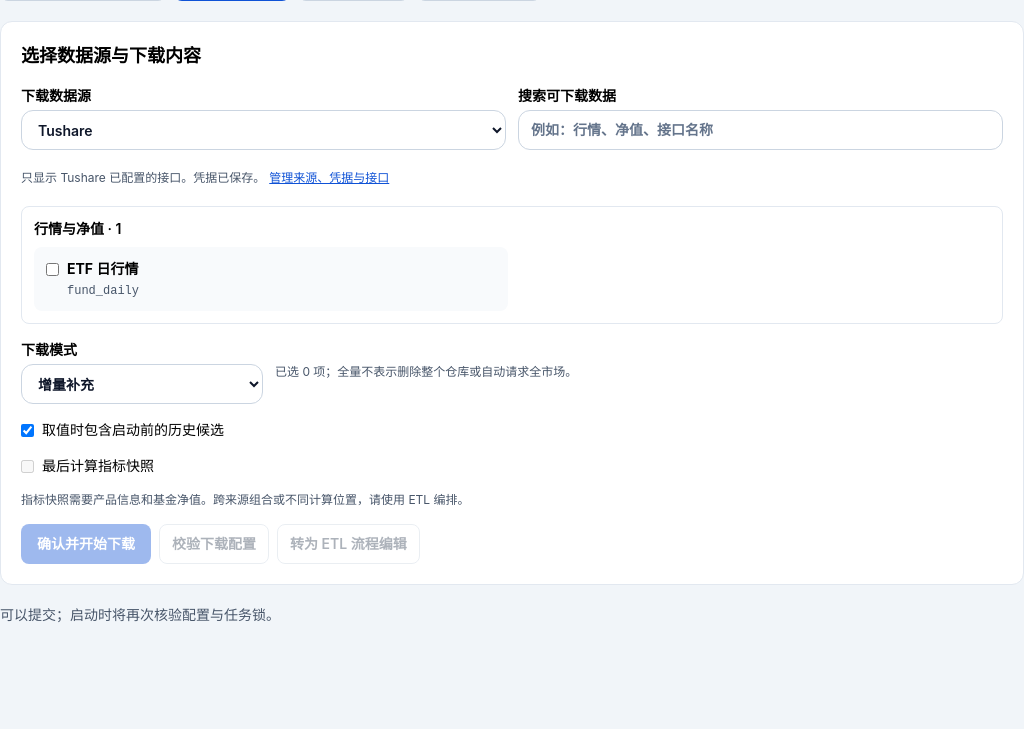
多源下载与 ETL › 校验失败不启动，后台状态失联也不能重复提交
This screenshot has width=1024, height=729.
Expected: the heading "选择数据源与下载内容" is shown, [21, 45, 201, 66]
Click the checkbox labelled "ETF 日行情". click: (52, 270)
box: [46, 263, 59, 276]
(page scrolled)
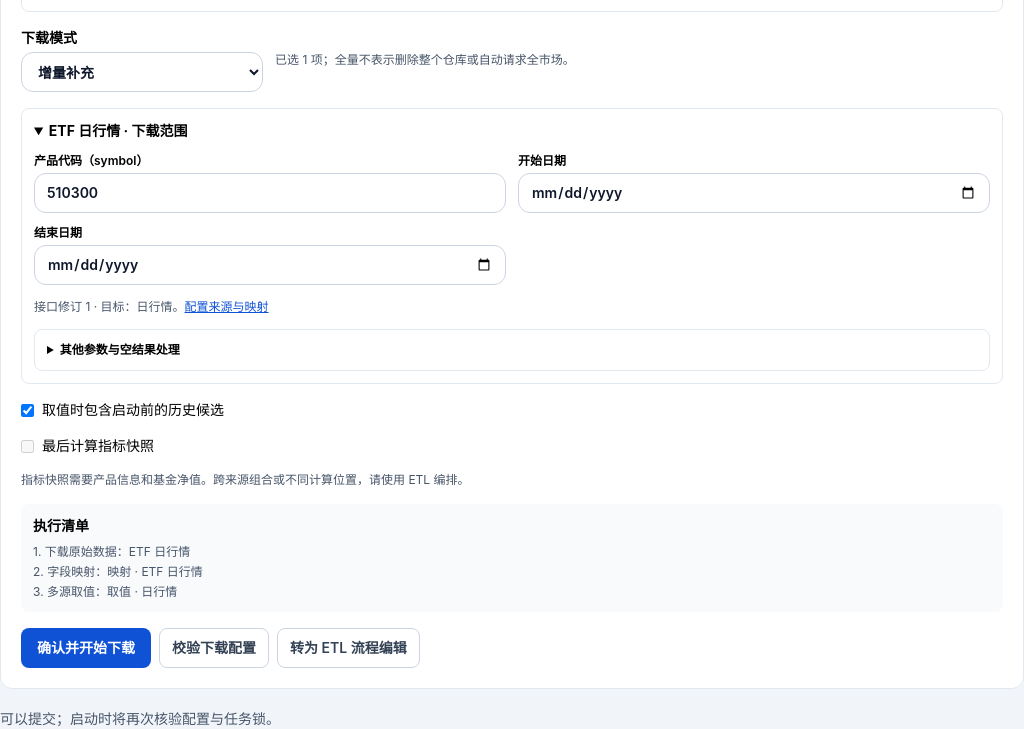
Click the button "确认并开始下载". click: (86, 648)
box: [21, 628, 151, 668]
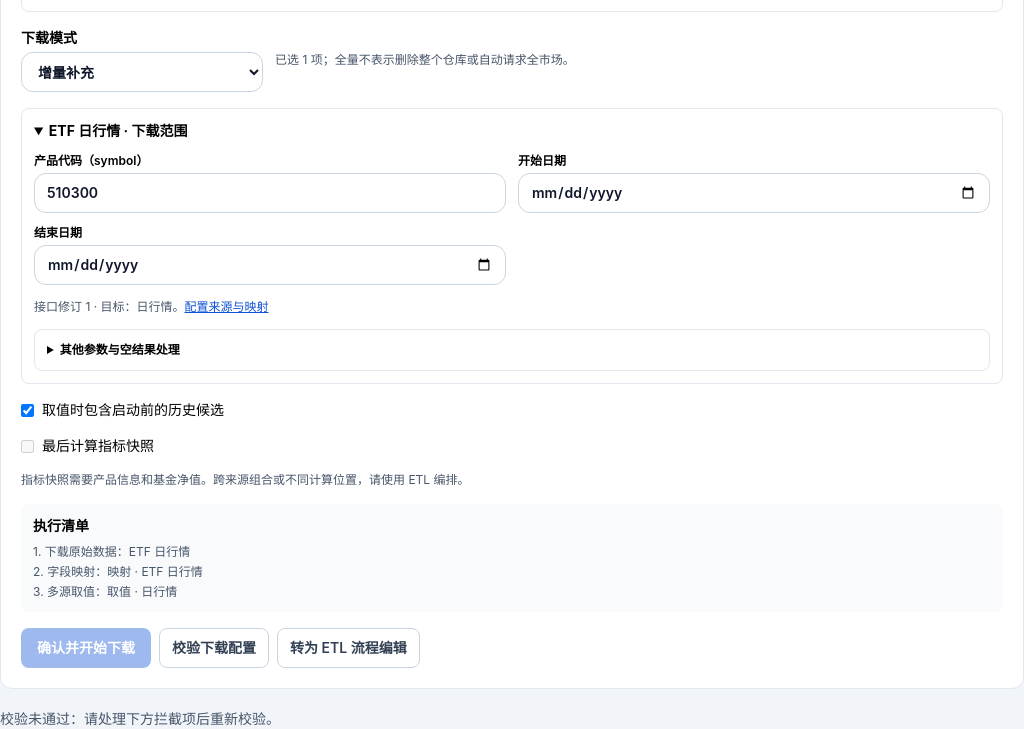
Expected: the button "确认并开始下载" is disabled, [21, 628, 151, 668]
Click the button "校验下载配置". click: (214, 648)
box: [159, 628, 269, 668]
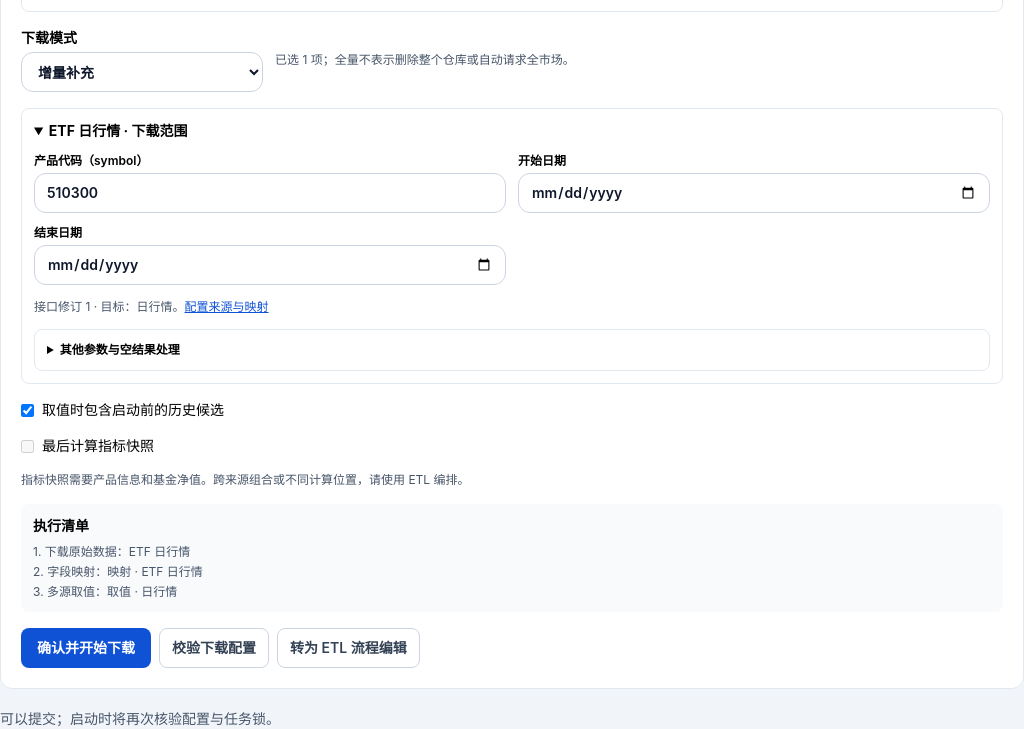
Expected: the button "确认并开始下载" is enabled, [21, 628, 151, 668]
